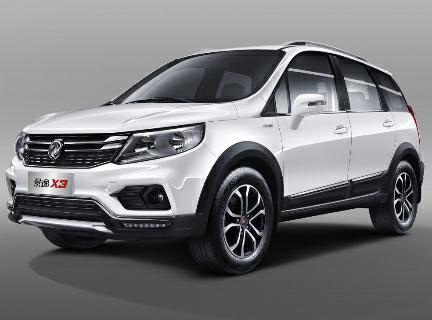东风风行-景逸X3: (6, 41, 428, 276)
